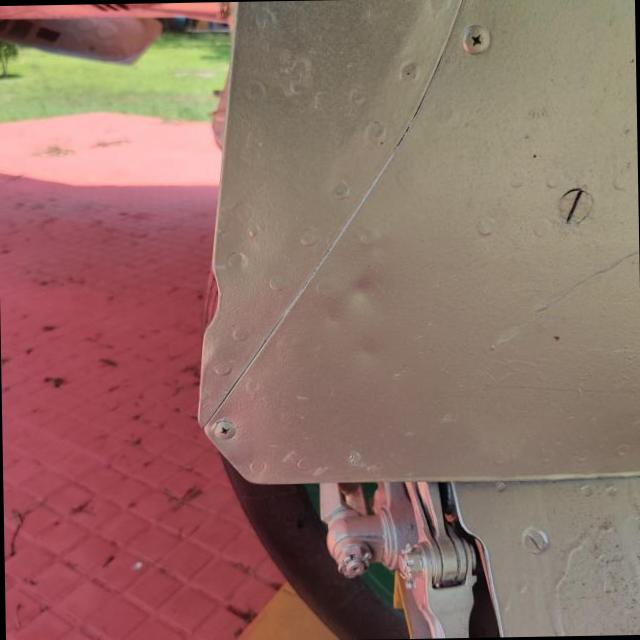Dent: (306, 231, 400, 352)
